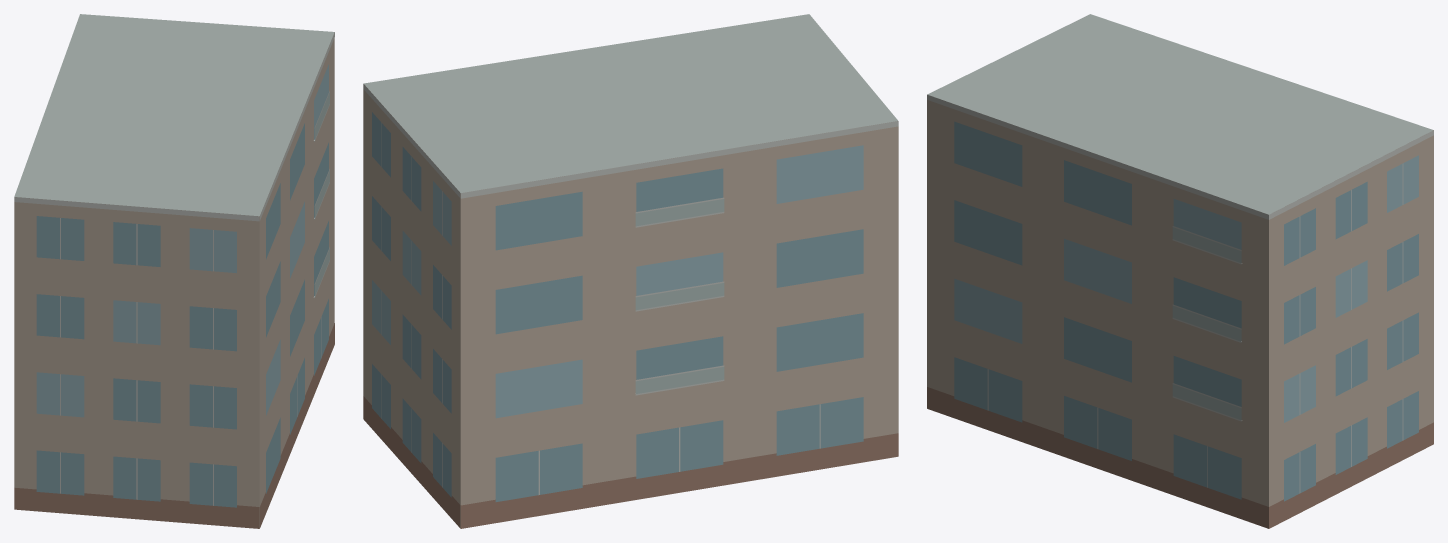
The model's file is survey-upis-32672867.glb.
The picture shows the model from 3 angles, left to right: view 1: azimuth 30°, elevation 25°; view 2: azimuth 150°, elevation 25°; view 3: azimuth 270°, elevation 25°; orthographic projection. The views are drawn at different scales.
Visible parts, largest first — view 1: survey-upis-32672867.tmp; view 2: survey-upis-32672867.tmp; view 3: survey-upis-32672867.tmp.
Boxes of the visible parts, box(x1,y1,x2,y2) form: survey-upis-32672867.tmp: box(14, 14, 334, 528); survey-upis-32672867.tmp: box(363, 14, 898, 528); survey-upis-32672867.tmp: box(927, 14, 1433, 528).
Size of the model in its own units: 20.29 by 14.8 by 21.64.
